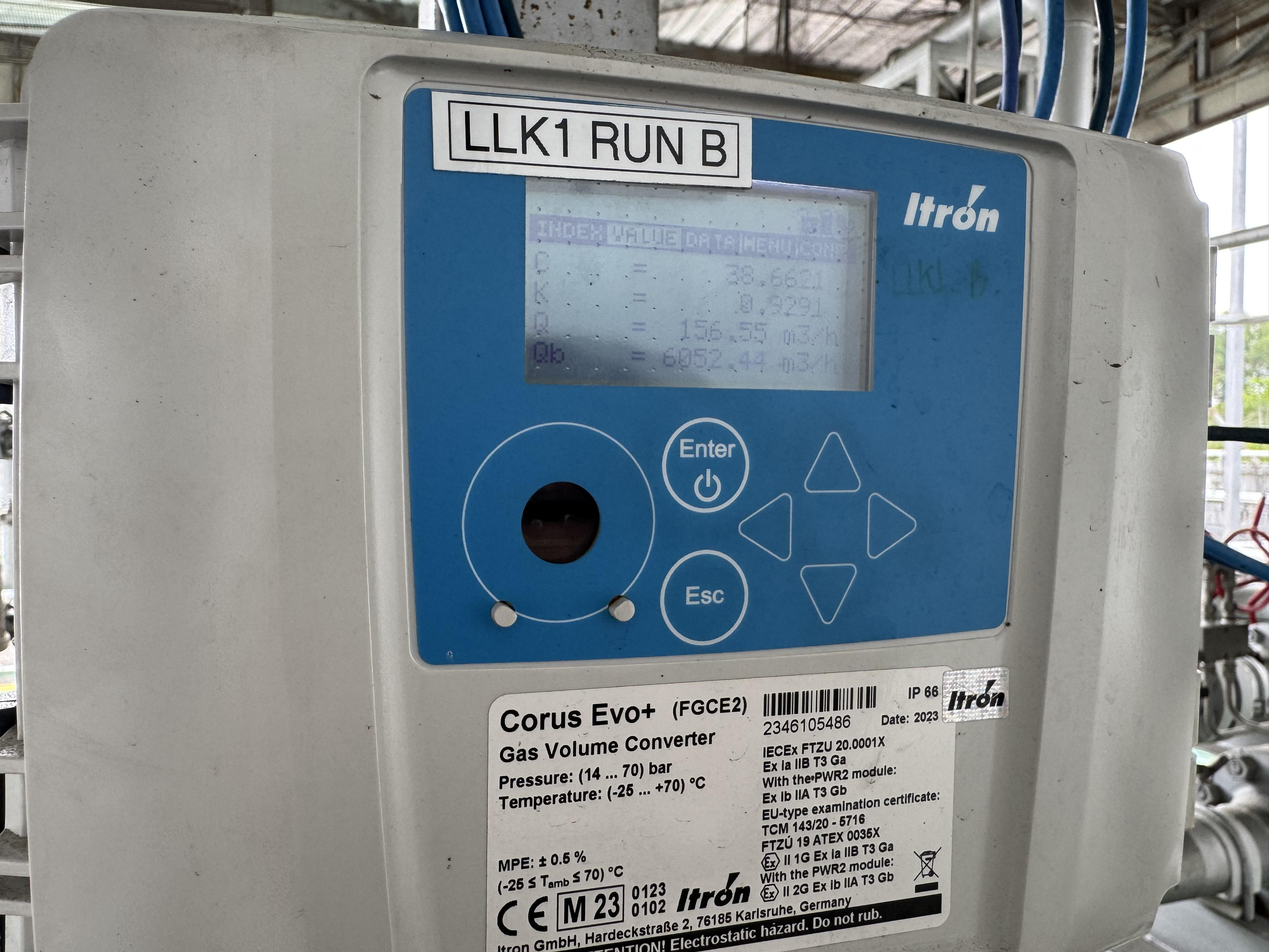digital_screen: (520, 163, 877, 391)
